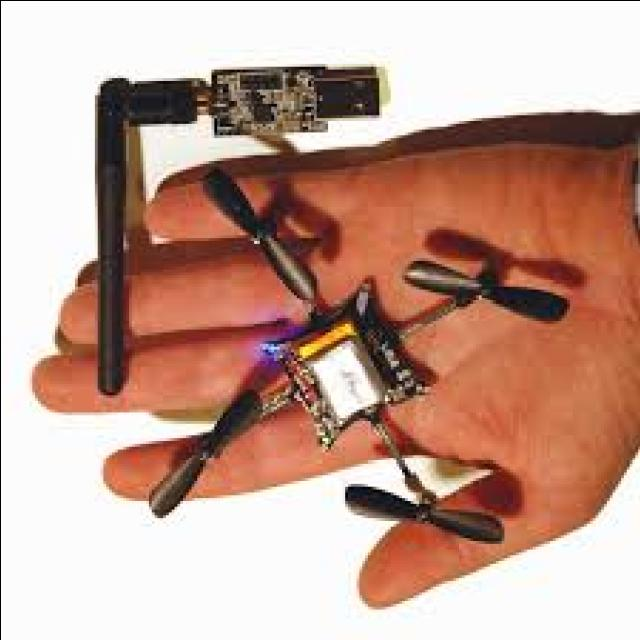drone: (150, 154, 560, 551)
